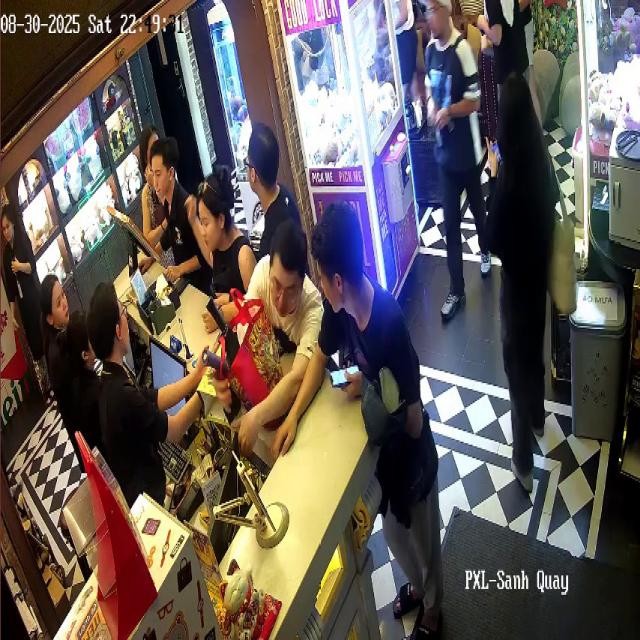khach: (314, 212, 426, 572), (495, 74, 575, 472), (422, 0, 486, 298), (487, 0, 552, 157), (181, 159, 246, 274), (254, 224, 314, 335), (247, 135, 304, 221), (136, 142, 154, 222)
nhan vien: (102, 290, 227, 477), (0, 204, 42, 374), (64, 327, 96, 441), (158, 152, 194, 244), (37, 269, 73, 346)
